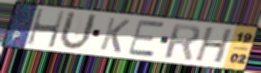E: (126, 20, 166, 58)
H: (26, 8, 67, 50), (193, 26, 235, 65)
K: (98, 16, 132, 55)
R: (163, 22, 202, 61)
U: (56, 10, 99, 52)
